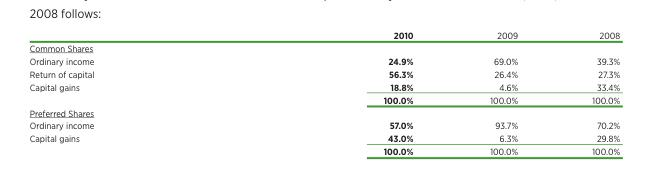table: (28, 29, 619, 156)
table column: (238, 29, 450, 156), (28, 29, 238, 156), (450, 29, 554, 156), (554, 29, 619, 156)
table column header: (28, 29, 619, 41)
table projected row header: (28, 41, 619, 54), (28, 105, 619, 118)
table row: (28, 41, 619, 54), (28, 54, 619, 67), (28, 79, 619, 92), (28, 92, 619, 105), (28, 105, 619, 118), (28, 118, 619, 131), (28, 131, 619, 144), (28, 29, 619, 41), (28, 67, 619, 79), (28, 144, 619, 156)
